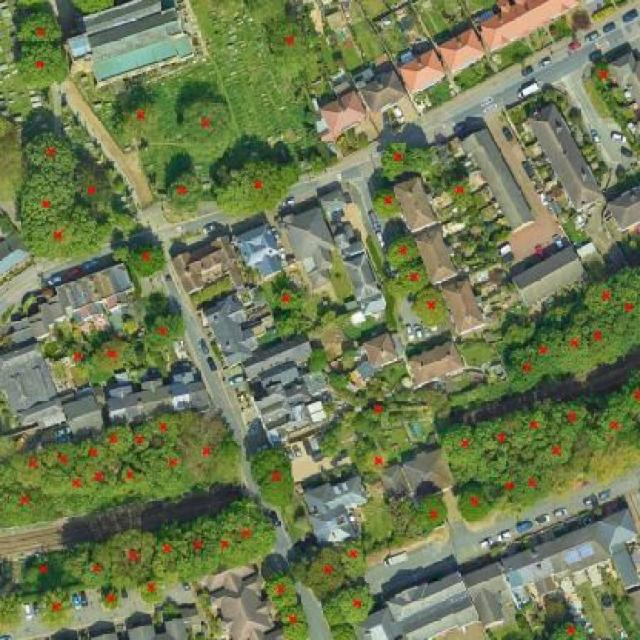tree: (215, 158, 299, 214), (218, 498, 279, 570), (175, 414, 236, 472), (603, 271, 640, 360), (250, 448, 301, 506), (180, 94, 231, 148), (20, 172, 74, 222), (106, 530, 160, 579), (196, 516, 242, 573), (17, 221, 98, 253), (14, 44, 74, 85), (574, 306, 617, 362), (72, 538, 116, 591), (20, 544, 72, 588), (265, 13, 312, 61), (479, 412, 521, 465), (23, 130, 75, 172), (182, 517, 215, 578), (157, 518, 189, 580), (307, 544, 342, 596), (584, 272, 624, 316), (442, 423, 481, 468), (110, 459, 155, 495), (14, 10, 64, 42), (142, 314, 184, 352), (38, 440, 84, 474), (264, 566, 301, 608), (120, 95, 163, 131), (0, 451, 48, 483), (0, 482, 45, 515), (516, 404, 552, 445), (340, 586, 377, 625), (555, 397, 593, 434), (508, 346, 538, 392), (456, 486, 493, 523), (487, 468, 525, 504), (584, 449, 625, 482), (167, 172, 199, 214), (93, 338, 130, 373), (517, 464, 554, 499), (537, 436, 575, 469), (416, 288, 449, 326), (131, 242, 167, 276), (368, 187, 410, 216), (415, 495, 447, 533), (38, 592, 73, 626), (276, 606, 312, 639), (598, 409, 634, 442), (381, 138, 408, 182), (388, 238, 424, 270), (76, 175, 110, 207), (307, 139, 339, 172), (78, 461, 114, 490), (0, 587, 23, 631), (534, 327, 557, 371), (398, 263, 432, 292), (556, 330, 584, 365), (46, 474, 89, 495), (156, 448, 190, 474), (547, 620, 591, 640), (360, 397, 392, 423), (148, 415, 181, 440), (346, 543, 368, 579), (269, 285, 302, 309), (444, 176, 468, 209), (407, 144, 431, 176), (68, 346, 90, 379), (365, 447, 390, 476), (101, 582, 124, 613), (140, 578, 166, 605), (106, 424, 129, 454), (306, 346, 329, 376), (108, 211, 135, 235), (562, 104, 589, 128), (84, 435, 107, 463), (273, 313, 301, 336), (592, 60, 612, 91), (328, 623, 363, 640), (623, 380, 640, 414), (318, 431, 339, 458), (0, 553, 15, 587), (145, 288, 169, 309), (611, 161, 632, 185), (328, 372, 350, 392), (111, 242, 129, 264), (129, 430, 153, 445), (544, 83, 558, 100)
